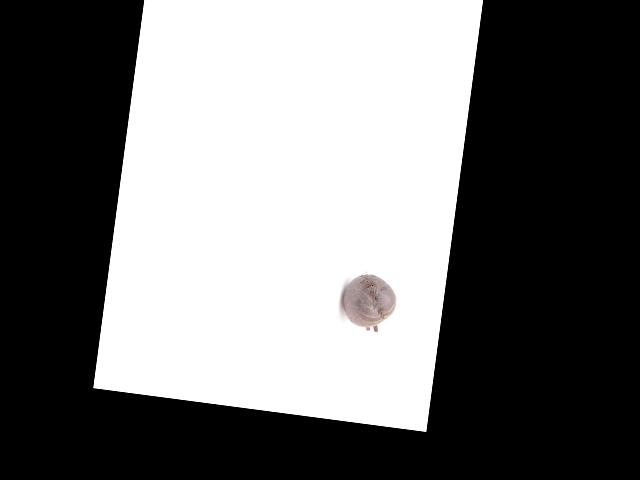beet: (338, 270, 399, 333)
